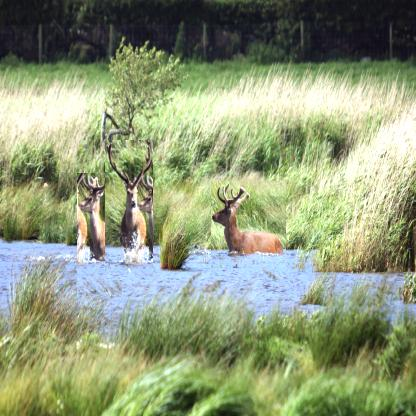Deer: (211, 181, 286, 280), (105, 140, 153, 281), (77, 173, 122, 296)
